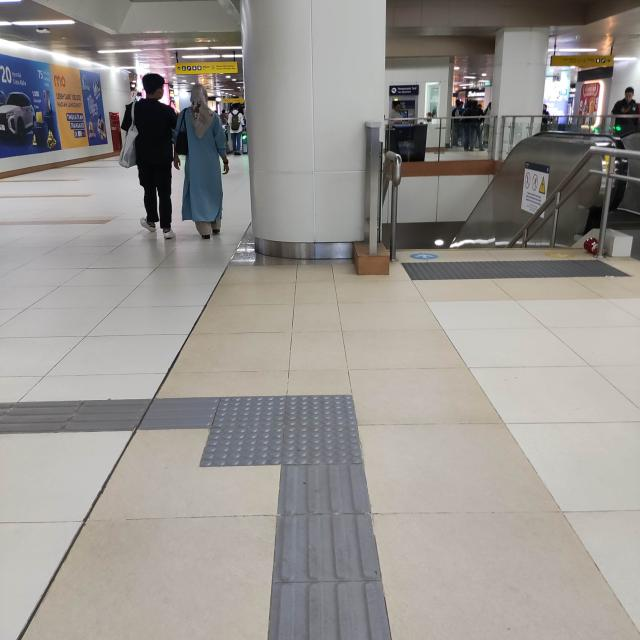kiri: (116, 354, 391, 523)
